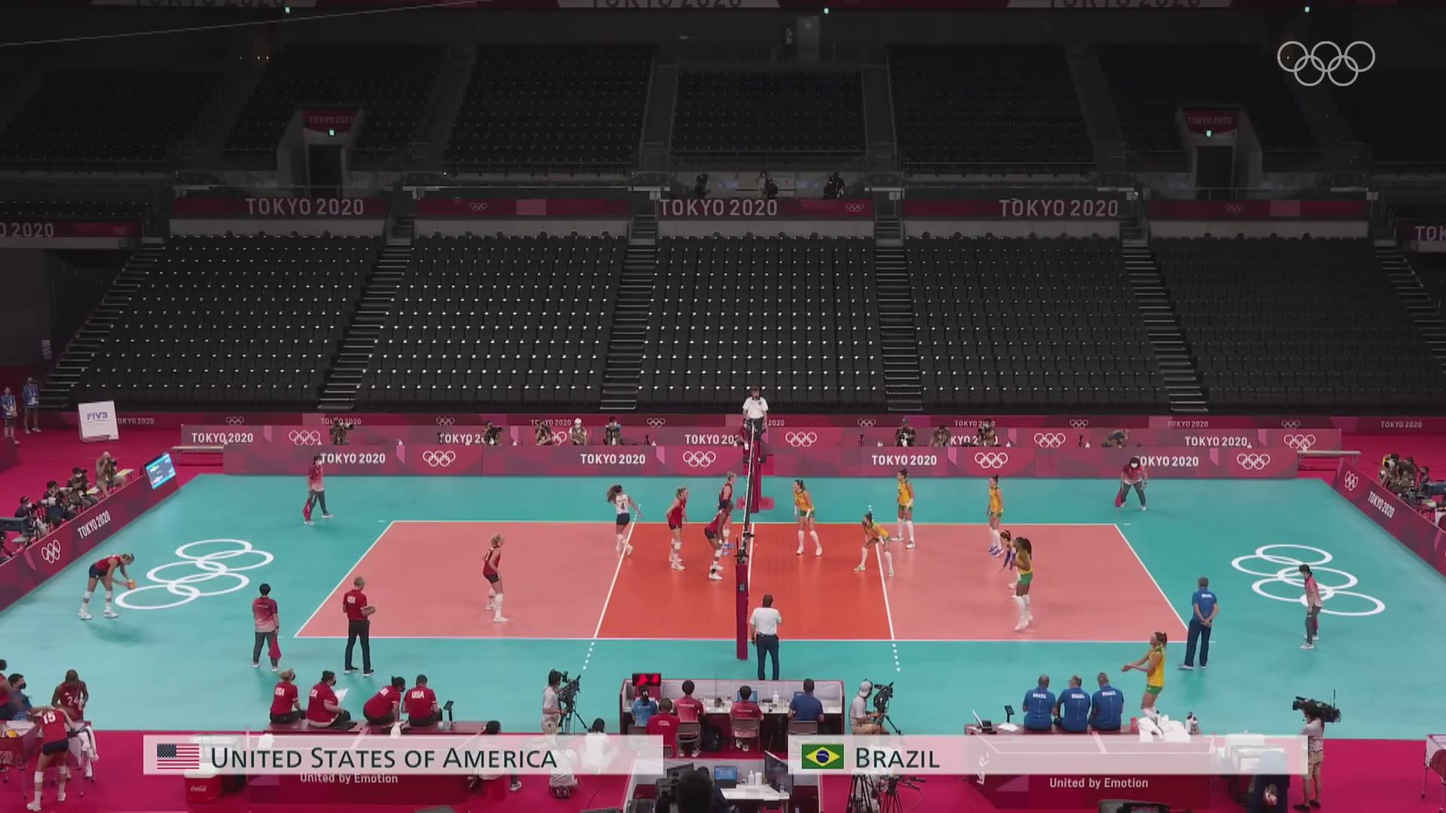player: (78, 553, 137, 620), (606, 483, 644, 560), (478, 532, 509, 623), (792, 479, 826, 558), (858, 513, 895, 578), (666, 486, 694, 571), (705, 501, 734, 582), (1012, 536, 1036, 632), (1000, 529, 1031, 597), (716, 472, 739, 555), (895, 471, 917, 547), (986, 474, 1005, 553)
refree: (252, 583, 283, 671), (748, 597, 782, 676), (1300, 563, 1327, 649), (301, 454, 333, 524), (743, 386, 769, 455), (1118, 457, 1148, 512)
